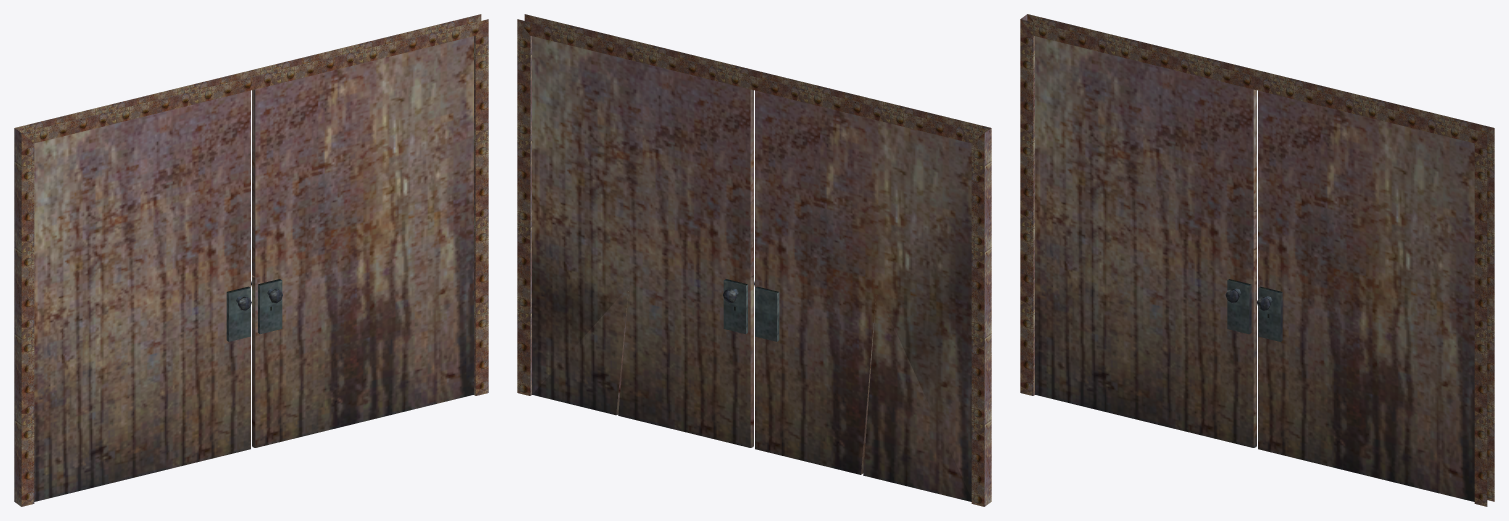
File: RB_DorX.glb
3 renders of one model, left to right at view 1: azimuth 30°, elevation 25°; view 2: azimuth 150°, elevation 25°; view 3: azimuth 330°, elevation 25°, orthographic.
Visible parts, largest first — view 1: _RB_DorX; view 2: _RB_DorX; view 3: _RB_DorX.
Boxes of the visible parts, bbox=[...] form: _RB_DorX: bbox=[14, 14, 488, 506]; _RB_DorX: bbox=[517, 14, 991, 506]; _RB_DorX: bbox=[1020, 14, 1494, 506].
Bounding box in the file's own units: 3.4 × 2.6 × 0.2814.
1 material, 1 textured.
